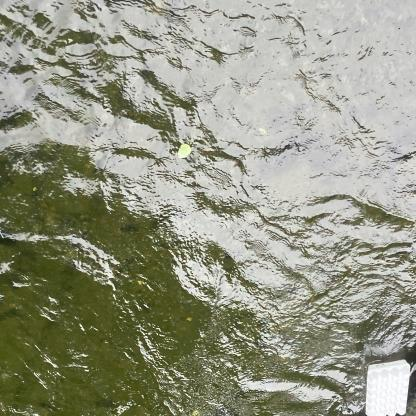Plastic: (360, 352, 413, 416)
